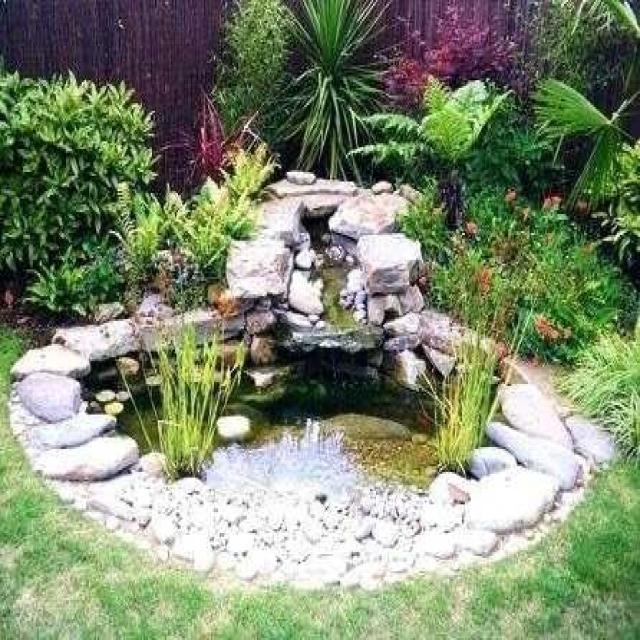Ponds: (13, 170, 593, 592)
